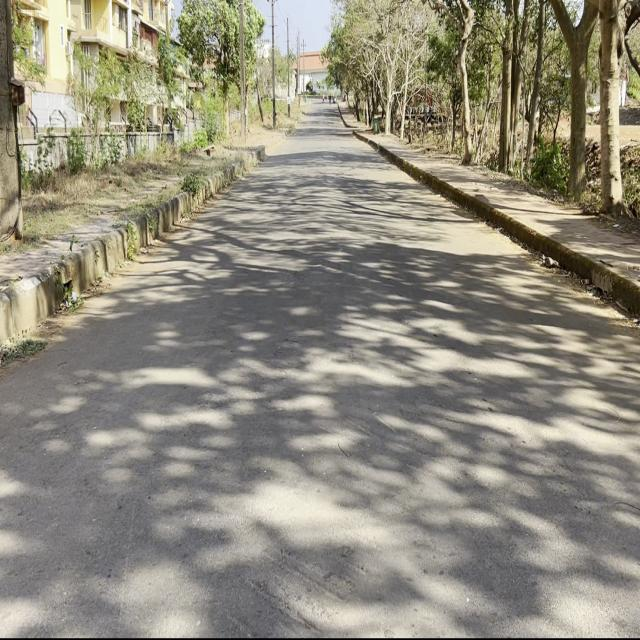Road: (4, 101, 639, 633)
